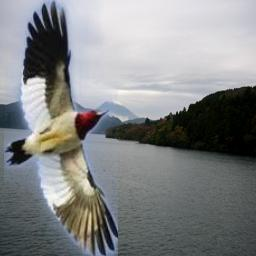Woodpecker: (4, 0, 118, 256)
